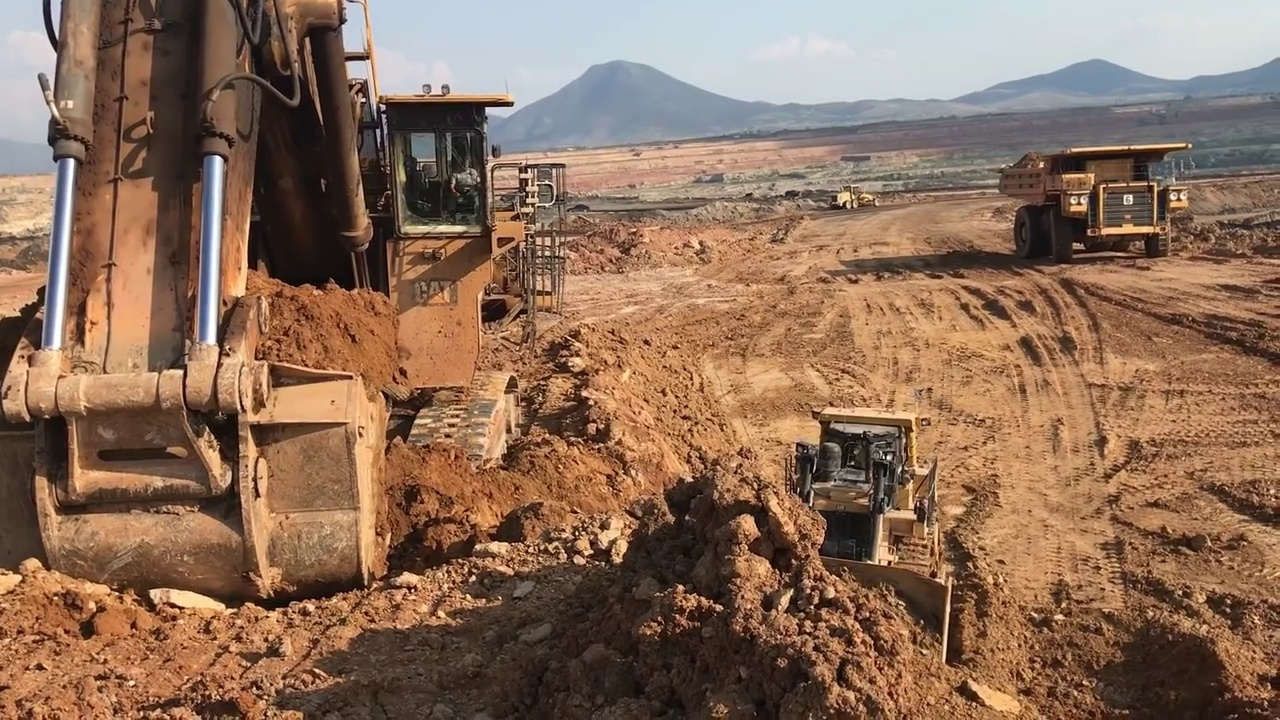bulldozer: (738, 404, 959, 665)
dumper: (992, 140, 1198, 268)
excavator: (7, 1, 566, 604)
